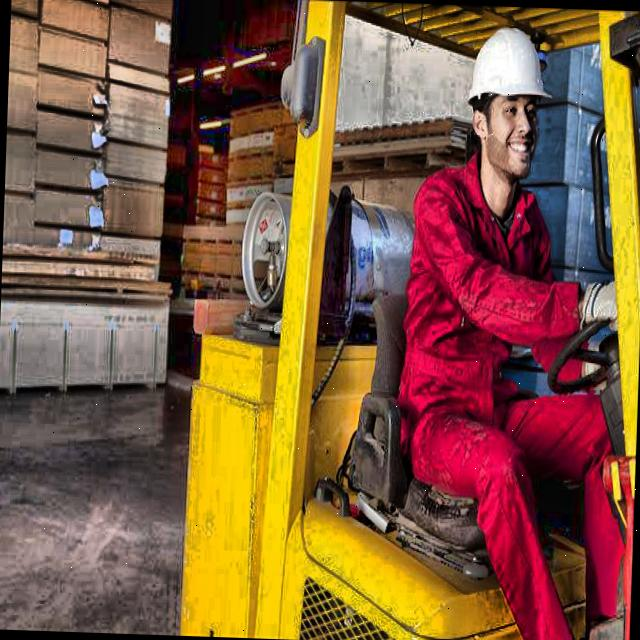helmet: (452, 15, 558, 193)
